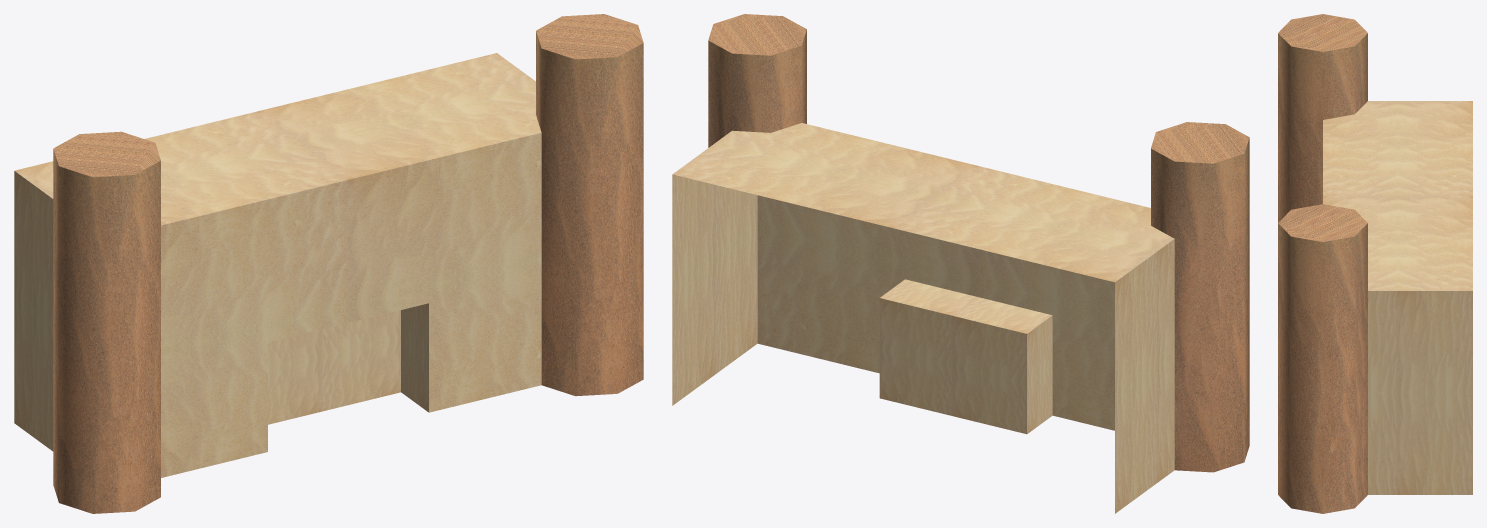
Rendered from test_entrance 1.FBX.
3 renders of one model, left to right at view 1: azimuth 30°, elevation 25°; view 2: azimuth 150°, elevation 25°; view 3: azimuth 270°, elevation 25°, orthographic. The views are drawn at different scales.
Visible parts, largest first — view 1: Box001, Cylinder001, Cylinder002; view 2: Box001, Cylinder001, Cylinder002; view 3: Box001, Cylinder002, Cylinder001.
Boxes of the visible parts, left/top/right/bottom form: Box001: left=14, top=53, right=541, bottom=477; Cylinder001: left=53, top=131, right=160, bottom=513; Cylinder002: left=536, top=14, right=643, bottom=396; Box001: left=672, top=123, right=1174, bottom=513; Cylinder001: left=1151, top=122, right=1249, bottom=472; Cylinder002: left=708, top=14, right=806, bottom=147; Box001: left=1323, top=101, right=1472, bottom=494; Cylinder002: left=1278, top=204, right=1367, bottom=513; Cylinder001: left=1278, top=14, right=1367, bottom=222.
Bounding box in the file's own units: 72 × 40 × 26.
